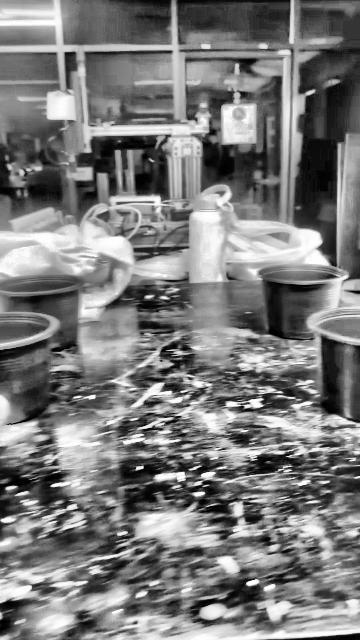pot: (259, 264, 347, 339), (0, 312, 56, 424), (0, 274, 83, 349), (311, 309, 360, 421)
